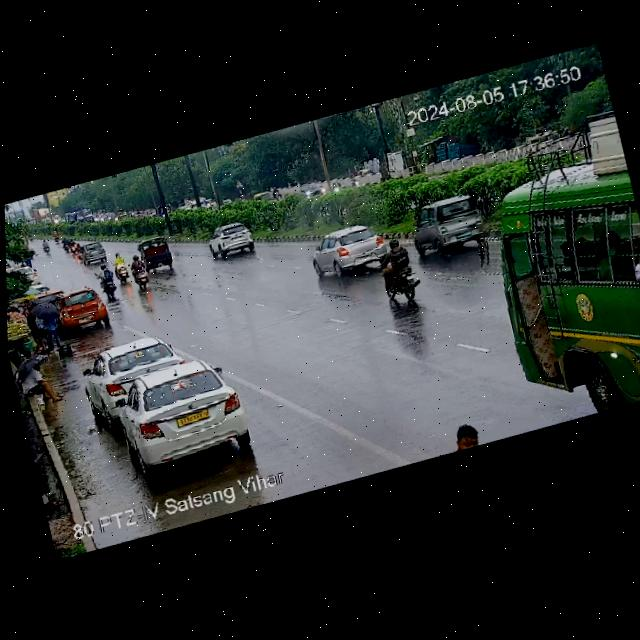bus: (463, 144, 640, 386)
car: (111, 347, 256, 475), (79, 329, 184, 417), (406, 188, 493, 259), (302, 215, 392, 281), (52, 283, 112, 335), (203, 218, 259, 262), (137, 234, 178, 276), (523, 126, 570, 147), (298, 177, 328, 203)
motorcycle: (374, 231, 427, 311), (96, 262, 121, 297), (128, 258, 154, 291), (112, 252, 133, 285), (58, 234, 80, 257), (68, 237, 83, 255), (39, 237, 52, 255), (349, 169, 359, 187), (52, 228, 61, 244)
person: (17, 285, 67, 355), (13, 351, 70, 411)
